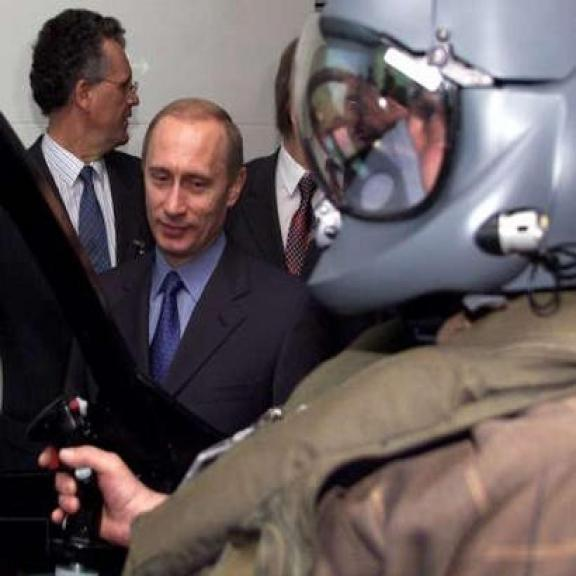face: (138, 115, 246, 261), (64, 25, 140, 152)
